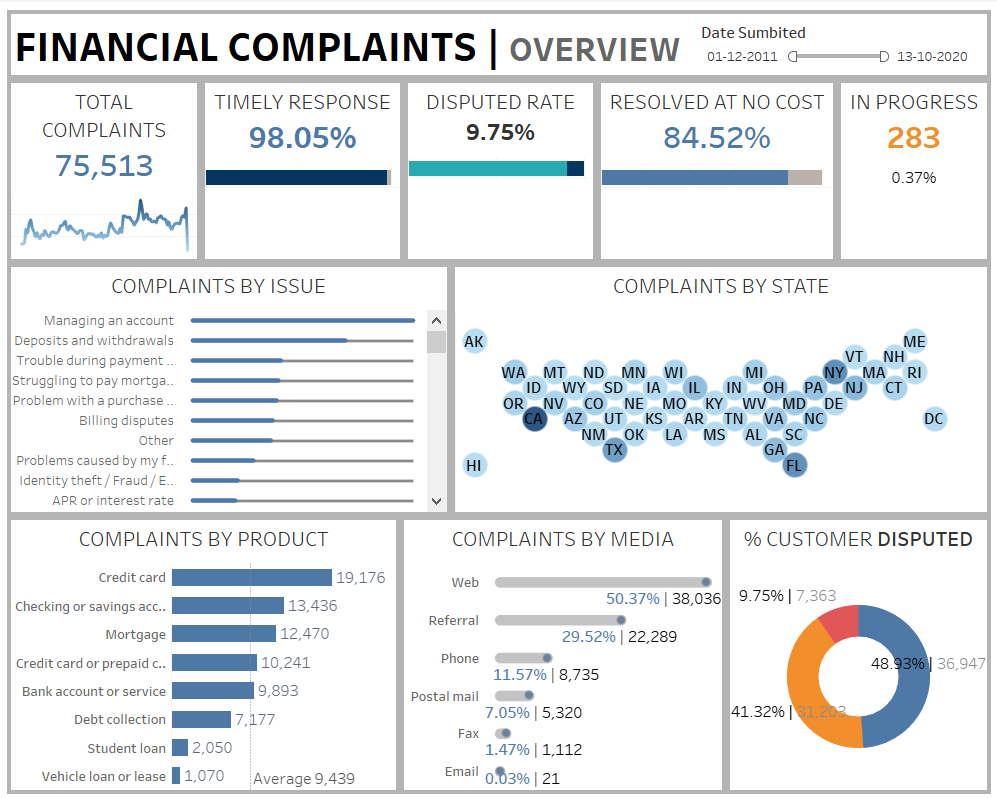

The dashboard page shown, as its layout file describes it:
{"tool":"tableau","page":{"name":"FC Overview","canvas":[1000,800],"ordinal":0},"visuals":[{"type":"text","box":[8,8,984,69.4]},{"type":"filter","title":"Complaints by Issue","param":"[federated.18g8lqt15msbkb1h5d82a07dsmkc].[none:Date Sumbited:qk]","box":[702,20,275,51]},{"type":"worksheet","title":"Total Complaints","mark":"Automatic","rows":["Financial Consumer Complaints (1).csv_45B241584750438CBACC74"],"cols":["Date Sumbited"],"box":[8,77.4,194,183.8]},{"type":"worksheet","title":"Timely Response","mark":"Bar","box":[202,77.4,203,183.8]},{"type":"worksheet","title":"Disputed rate","mark":"Automatic","box":[405,77.4,193,183.8]},{"type":"worksheet","title":"Resolved at no cost","mark":"Bar","box":[598,77.4,240,183.8]},{"type":"worksheet","title":"In progress","mark":"Automatic","box":[838,77.4,154,183.8]},{"type":"worksheet","title":"Complaints by Issue","mark":"Automatic","rows":["Issue"],"cols":["Calculation_1146166159918088192"],"box":[8,261.2,444,253.2]},{"type":"worksheet","title":"Complaints by State","mark":"Automatic","rows":["Row"],"cols":["Column"],"box":[452,261.2,540,253.2]},{"type":"worksheet","title":"Complaints by product","mark":"Automatic","rows":["Product"],"cols":["Financial Consumer Complaints (1).csv_45B241584750438CBACC74"],"box":[8,514.4,393,277.6]},{"type":"worksheet","title":"Complaints by Media","mark":"Automatic","rows":["Submitted via"],"cols":["Financial Consumer Complaints (1).csv_45B241584750438CBACC74"],"box":[401,514.4,326,277.6]},{"type":"worksheet","title":"Customer disputed","mark":"Pie","rows":["Calculation_780248689853997068","Calculation_780248689854017550"],"box":[727,514.4,265,277.6]}]}

Visuals, with their boxes in screenshot pixels (x1, y1, x2, y2), scaled from the page's 1000x800 canvas onto the 997x798 screenshot:
text: [x1=8, y1=8, x2=989, y2=77]
"Complaints by Issue" filter: [x1=700, y1=20, x2=974, y2=71]
"Total Complaints" worksheet: [x1=8, y1=77, x2=201, y2=261]
"Timely Response" worksheet (Bar marks): [x1=201, y1=77, x2=404, y2=261]
"Disputed rate" worksheet: [x1=404, y1=77, x2=596, y2=261]
"Resolved at no cost" worksheet (Bar marks): [x1=596, y1=77, x2=835, y2=261]
"In progress" worksheet: [x1=835, y1=77, x2=989, y2=261]
"Complaints by Issue" worksheet: [x1=8, y1=261, x2=451, y2=513]
"Complaints by State" worksheet: [x1=451, y1=261, x2=989, y2=513]
"Complaints by product" worksheet: [x1=8, y1=513, x2=400, y2=790]
"Complaints by Media" worksheet: [x1=400, y1=513, x2=725, y2=790]
"Customer disputed" worksheet (Pie marks): [x1=725, y1=513, x2=989, y2=790]
